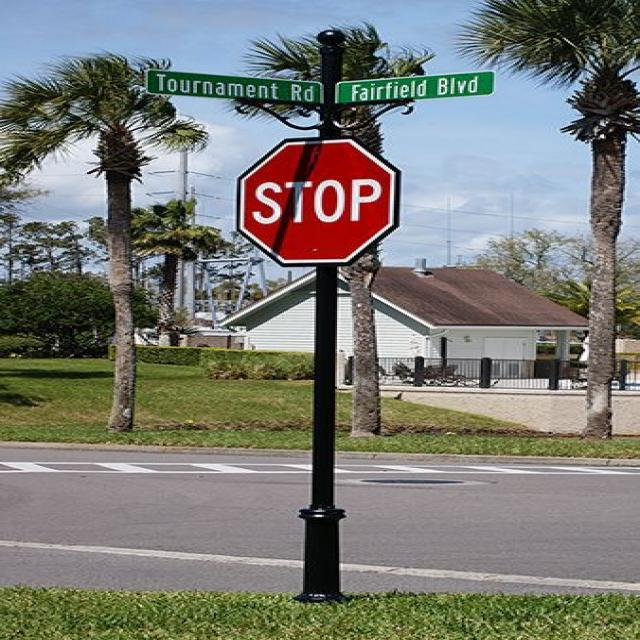stop: (234, 135, 401, 268)
